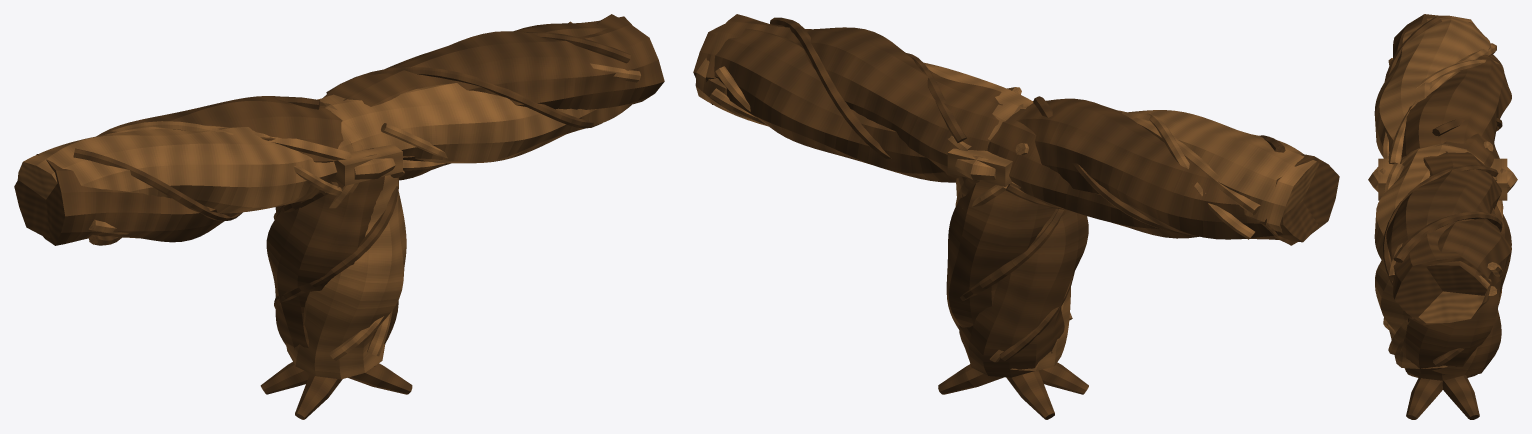
Rendered from rootforged-worldroot-t-brace-4m.glb.
3 renders of one model, left to right at view 1: azimuth 30°, elevation 25°; view 2: azimuth 150°, elevation 25°; view 3: azimuth 270°, elevation 25°, orthographic. The views are drawn at different scales.
Parts seen in each view (by area): view 1: arm--1-root-1, arm-1-root-0, arm-1-root-1, trunk-root-1, trunk-root-0, arm--1-root-0, arm--1-root-2, arm-1-ridge-0, arm--1-ridge-0, trunk-ridge-0, junction-heartwood-key-y--1, arm--1-ridge-1 (+9 smaller); view 2: arm--1-root-2, arm-1-root-0, arm-1-root-2, trunk-root-0, arm--1-root-1, trunk-root-2, arm--1-root-0, arm-1-root-1, arm-1-ridge-2, arm--1-ridge-1, trunk-ridge-2, arm--1-vein-1 (+9 smaller); view 3: arm-1-root-0, arm--1-root-2, arm--1-root-1, trunk-root-2, arm-1-root-2, arm-1-root-1, trunk-root-1, trunk-root-0, arm--1-root-0, arm-1-ridge-2, brace-foot-3, arm--1-vein-1 (+13 smaller).
Boxes of the visible parts, bbox=[...] form: arm--1-root-1: bbox=[17, 103, 363, 213]; arm-1-root-0: bbox=[322, 14, 664, 109]; arm-1-root-1: bbox=[318, 83, 634, 163]; trunk-root-1: bbox=[286, 175, 406, 379]; trunk-root-0: bbox=[266, 148, 384, 350]; arm--1-root-0: bbox=[36, 101, 326, 245]; arm--1-root-2: bbox=[14, 96, 343, 237]; arm-1-ridge-0: bbox=[326, 67, 602, 128]; arm--1-ridge-0: bbox=[73, 148, 242, 220]; trunk-ridge-0: bbox=[274, 178, 398, 308]; junction-heartwood-key-y--1: bbox=[334, 144, 402, 185]; arm--1-ridge-1: bbox=[110, 121, 342, 195]; arm--1-root-2: bbox=[1016, 98, 1317, 242]; arm-1-root-0: bbox=[706, 14, 1002, 178]; arm-1-root-2: bbox=[693, 24, 956, 182]; trunk-root-0: bbox=[959, 208, 1088, 377]; arm--1-root-1: bbox=[1013, 104, 1319, 232]; trunk-root-2: bbox=[946, 181, 1055, 329]; arm--1-root-0: bbox=[987, 109, 1339, 245]; arm-1-root-1: bbox=[695, 58, 1033, 146]; arm-1-ridge-2: bbox=[770, 17, 891, 158]; arm--1-ridge-1: bbox=[1147, 112, 1254, 239]; trunk-ridge-2: bbox=[960, 209, 1066, 300]; arm--1-vein-1: bbox=[1117, 110, 1260, 215]; arm-1-root-0: bbox=[1386, 151, 1501, 325]; arm--1-root-2: bbox=[1401, 54, 1511, 158]; arm--1-root-1: bbox=[1374, 15, 1490, 164]; trunk-root-2: bbox=[1401, 204, 1511, 380]; arm-1-root-2: bbox=[1426, 208, 1511, 295]; arm-1-root-1: bbox=[1374, 144, 1491, 323]; trunk-root-1: bbox=[1375, 260, 1447, 368]; trunk-root-0: bbox=[1432, 309, 1501, 375]; arm--1-root-0: bbox=[1393, 14, 1499, 167]; arm-1-ridge-2: bbox=[1393, 211, 1502, 262]; brace-foot-3: bbox=[1442, 375, 1479, 419]; arm--1-vein-1: bbox=[1388, 43, 1496, 164].
Size of the model in its own units: 4 by 2 by 1.
Materials: 2 (2 with a texture image).
